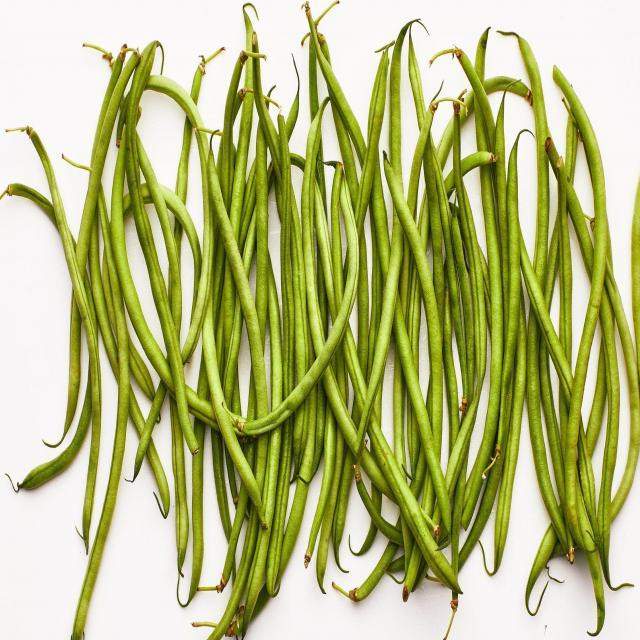Beans: (0, 20, 639, 639)
